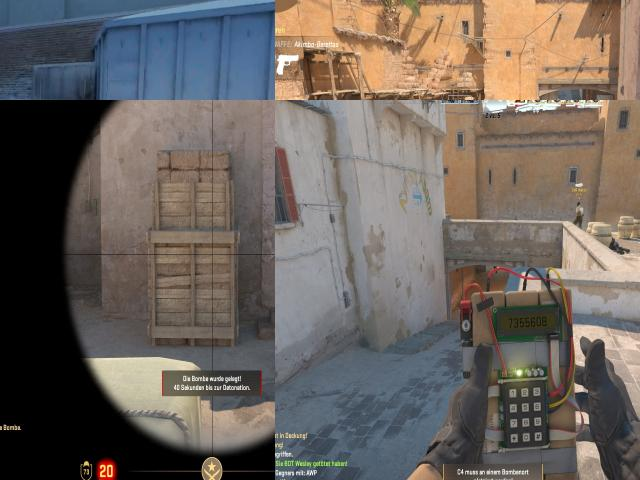Bomb: (470, 290, 577, 480)
Dead: (608, 237, 630, 257)
T: (576, 200, 584, 228)
T-Head: (577, 201, 581, 206)
